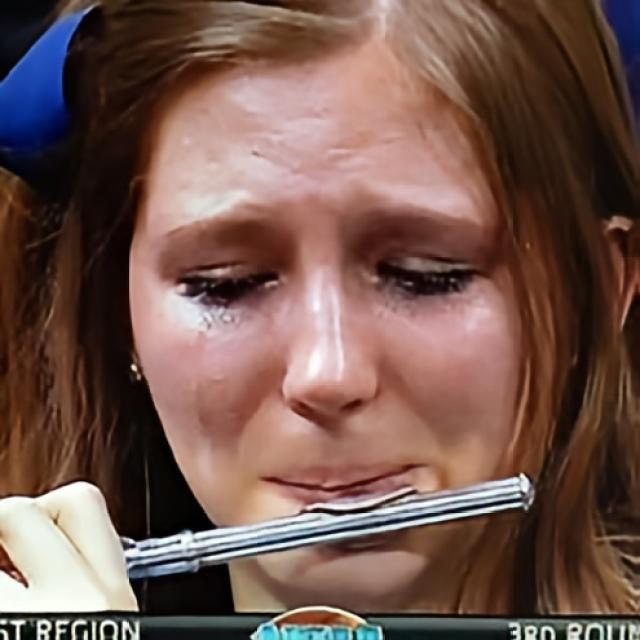sad: (122, 44, 580, 604)
